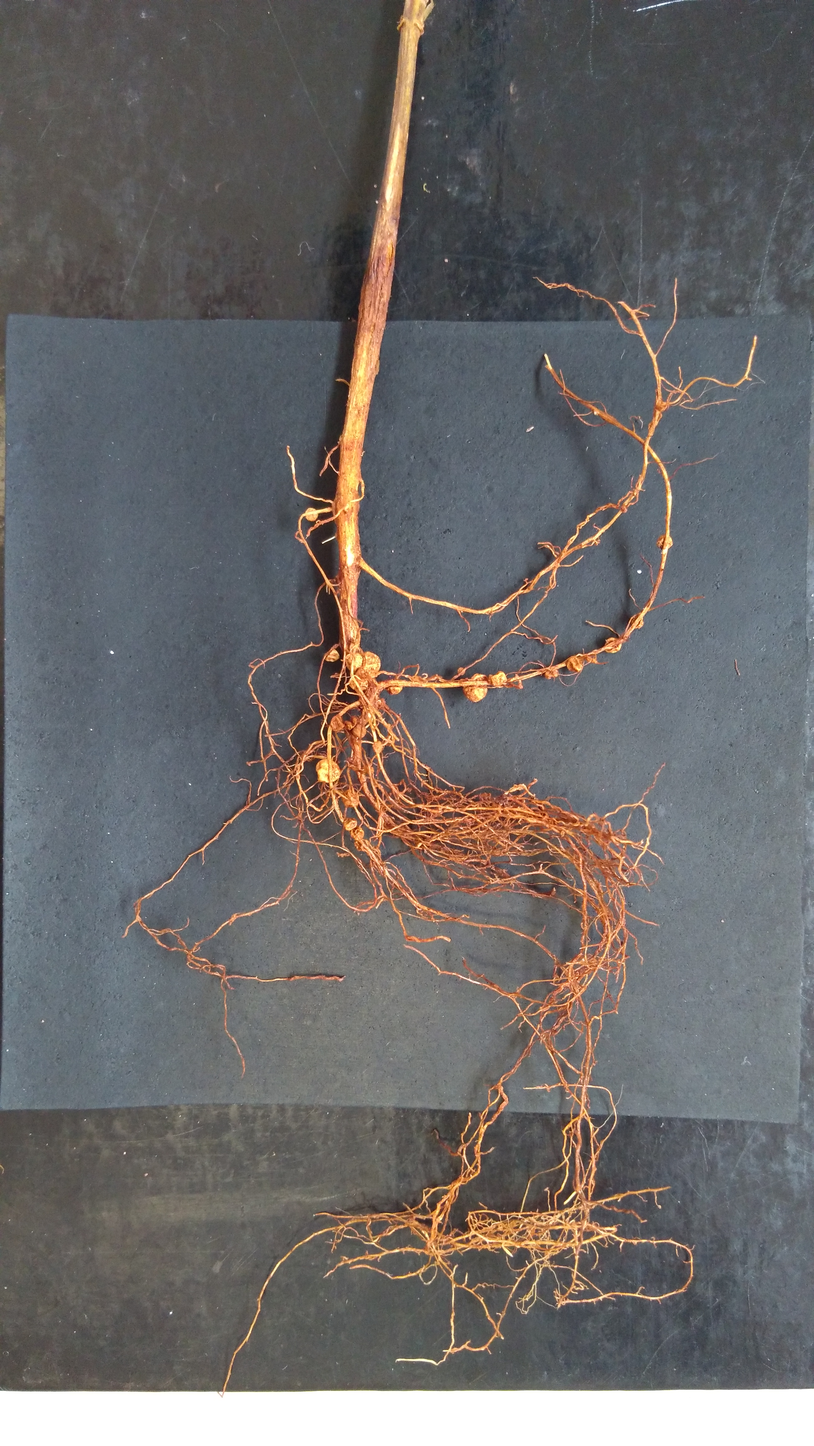nodule: (462, 672, 488, 704), (314, 757, 342, 784), (360, 651, 382, 678), (348, 667, 368, 690), (488, 668, 508, 690), (344, 652, 364, 673), (341, 789, 361, 810), (603, 635, 623, 655), (565, 654, 584, 674), (656, 533, 674, 552), (341, 815, 357, 833), (630, 614, 647, 630), (385, 683, 405, 696), (330, 714, 345, 731), (324, 648, 340, 663), (351, 724, 366, 739), (350, 825, 364, 841), (305, 507, 319, 522), (543, 667, 558, 680), (371, 740, 385, 753), (343, 720, 354, 731), (456, 666, 465, 675), (350, 716, 359, 723)
